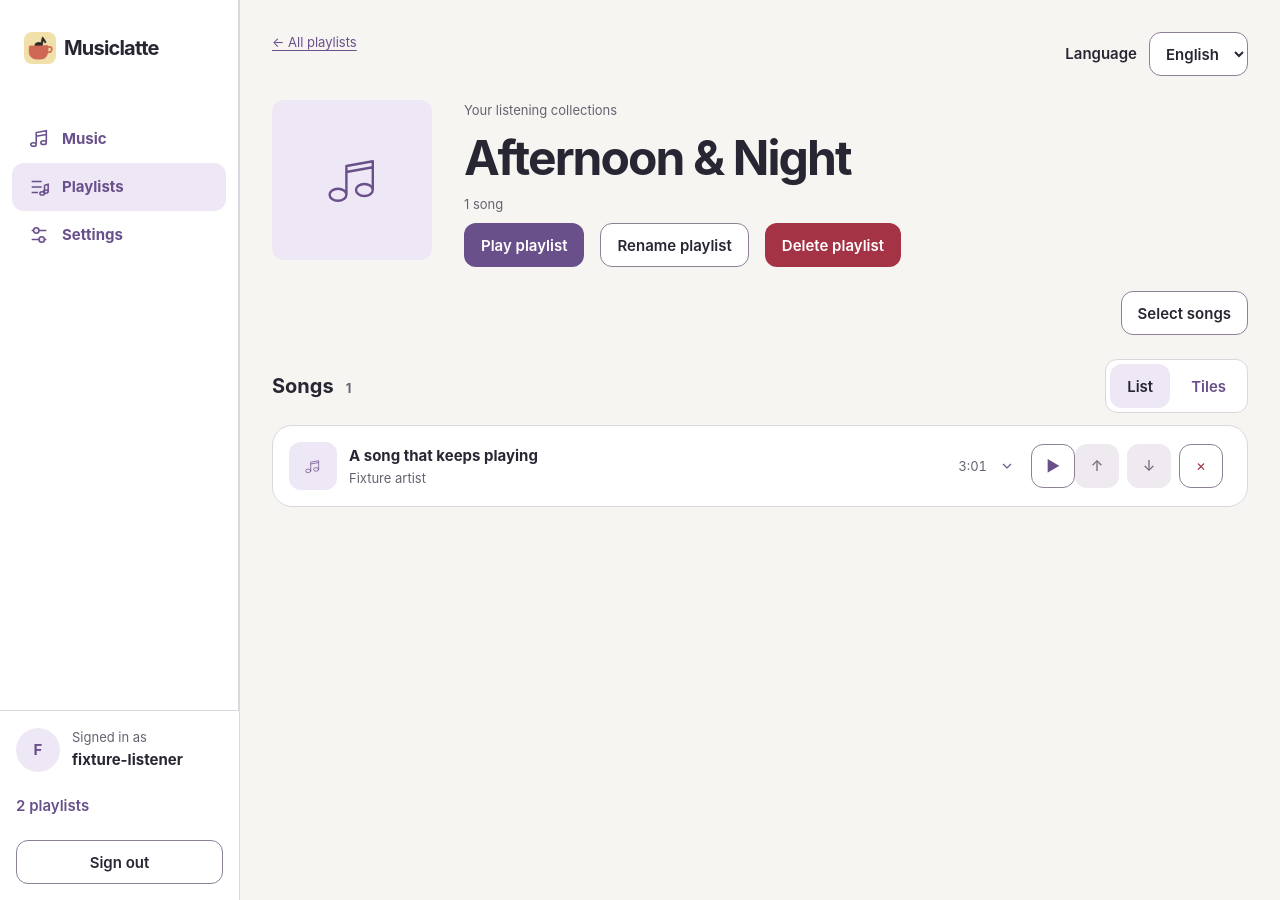
Scenario: playlist CRUD UI › should handle forbidden and unauthenticated rename failures without losing the intent
Step 1. Click the button "Rename playlist" → x=675, y=245, box [600,223,749,267]
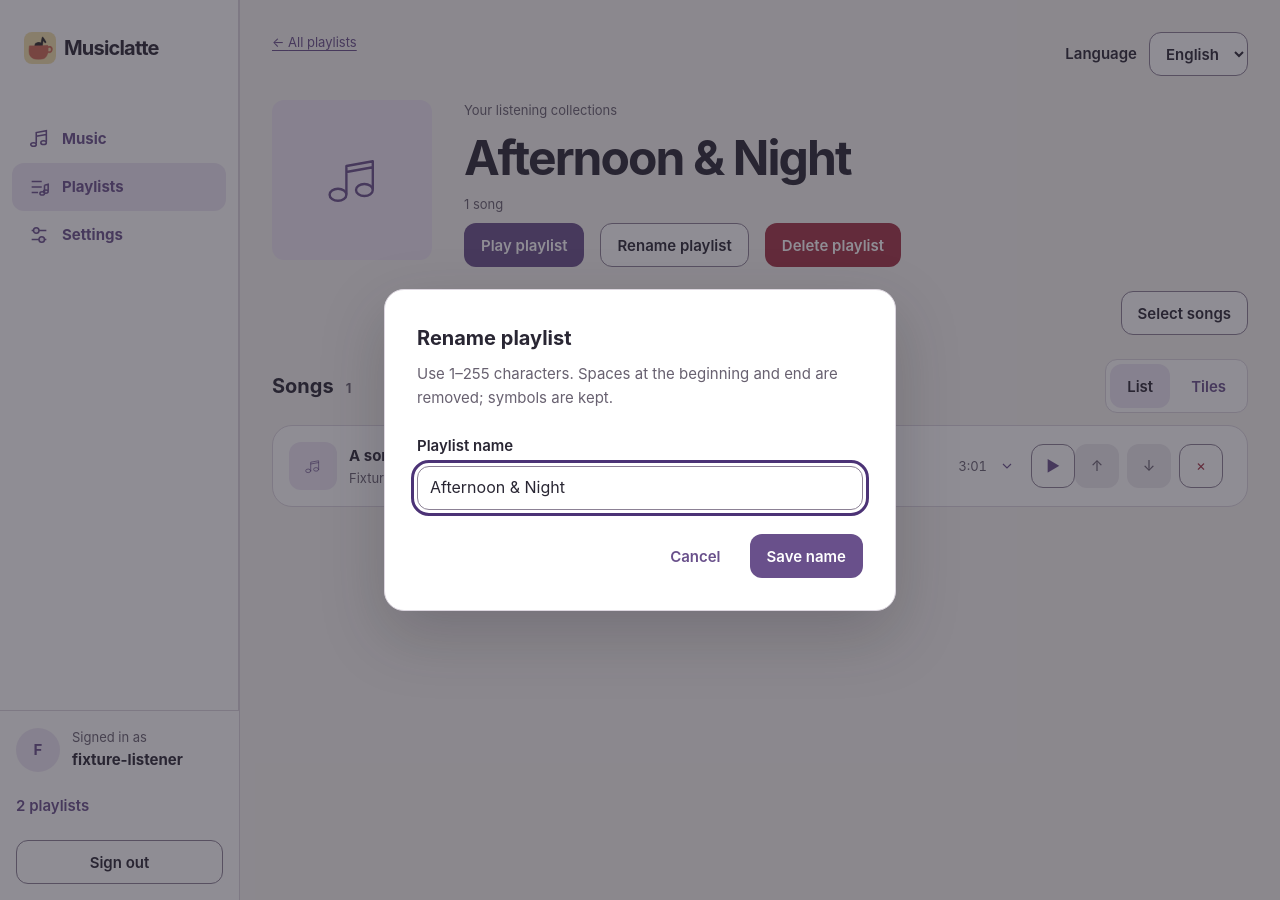
Step 2. Replace the text in the field labelled "Playlist name" with "Private evening" → x=640, y=488, box [417,466,863,510]
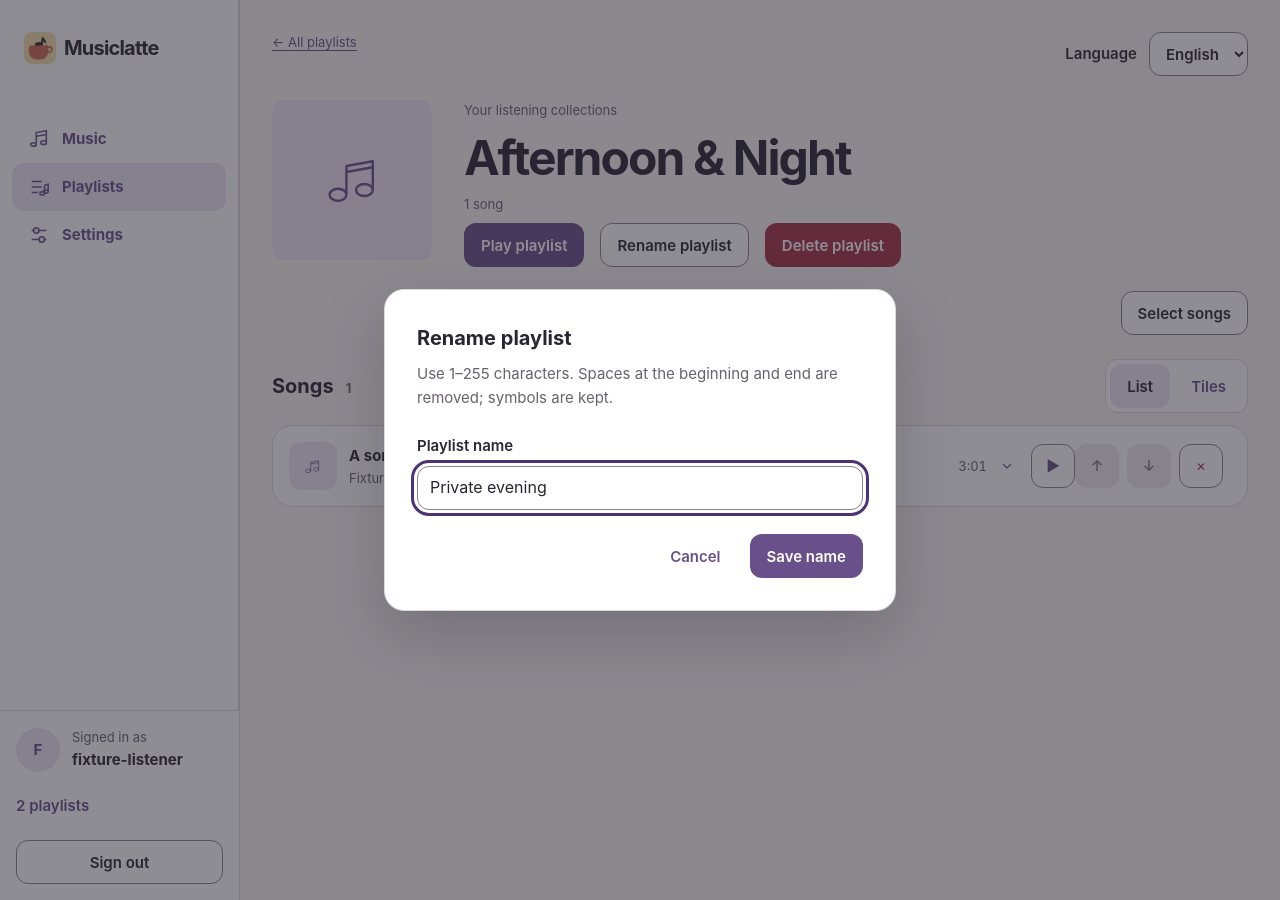
Step 3. Click the button "Save name" → x=806, y=556, box [750,534,863,578]
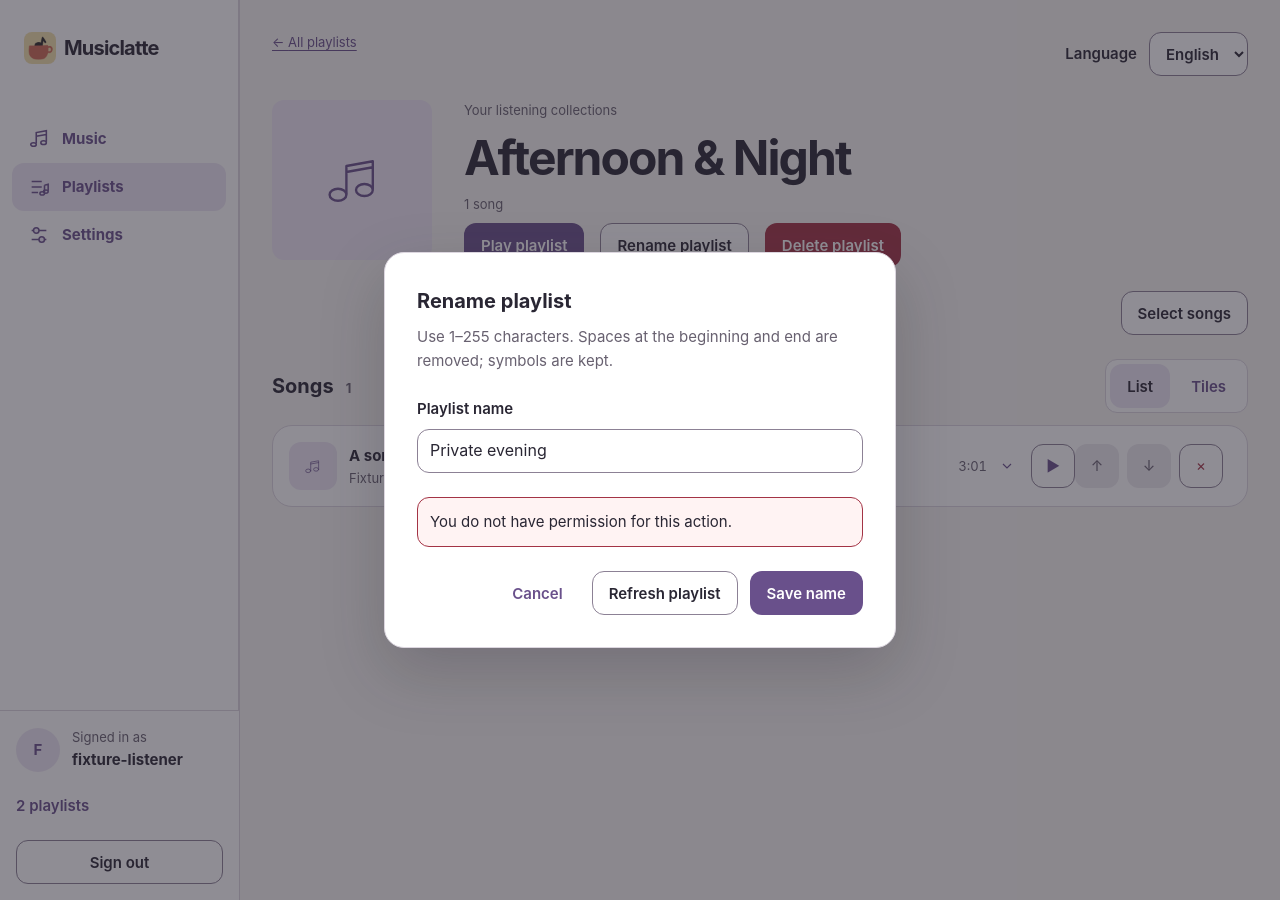
Expected: the text "You do not have permission for this action." is shown, [417,497,863,547]
Step 4. Click the button "Save name" → x=806, y=593, box [750,571,863,615]
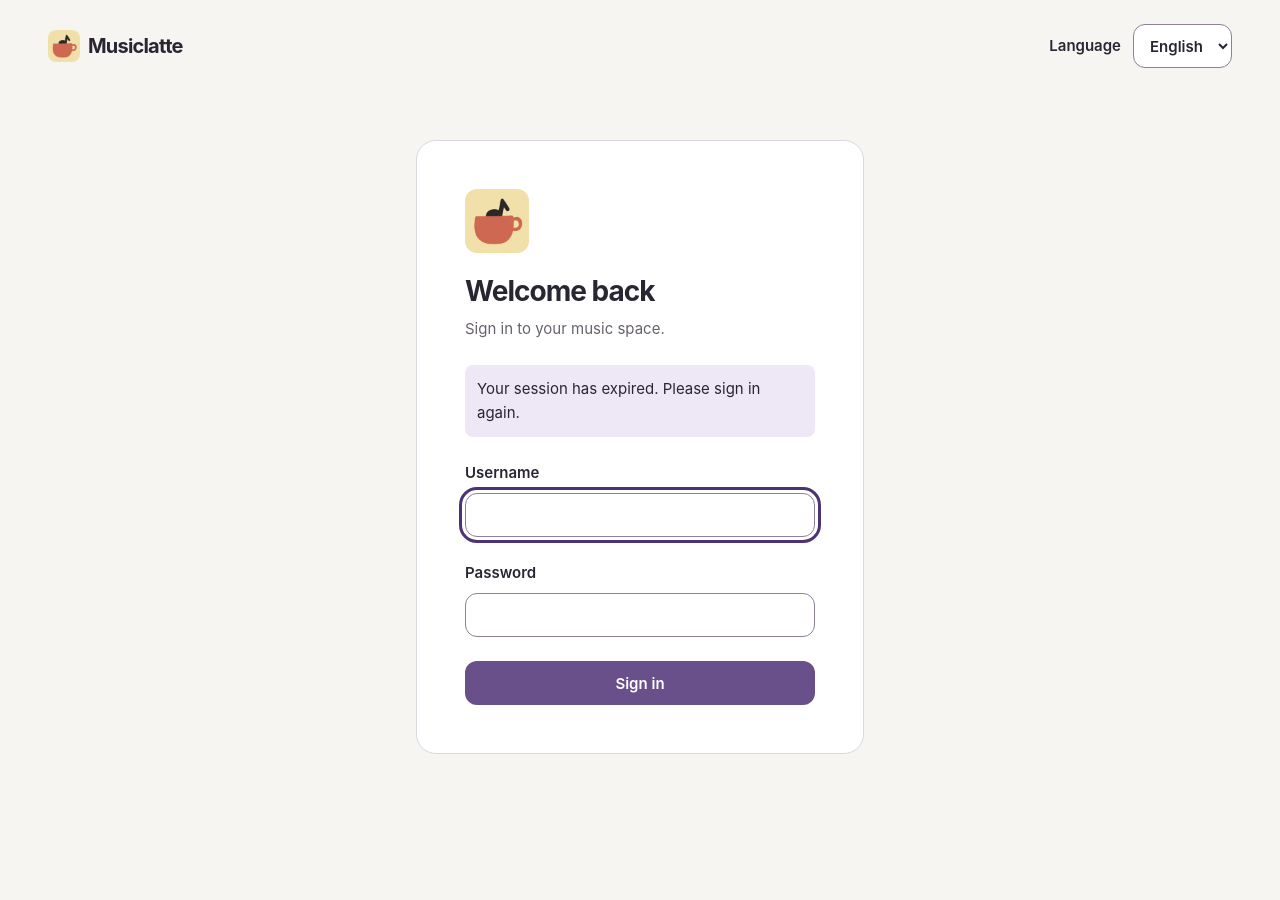
Expected: the field labelled "Username" is shown, [465,493,815,537]
